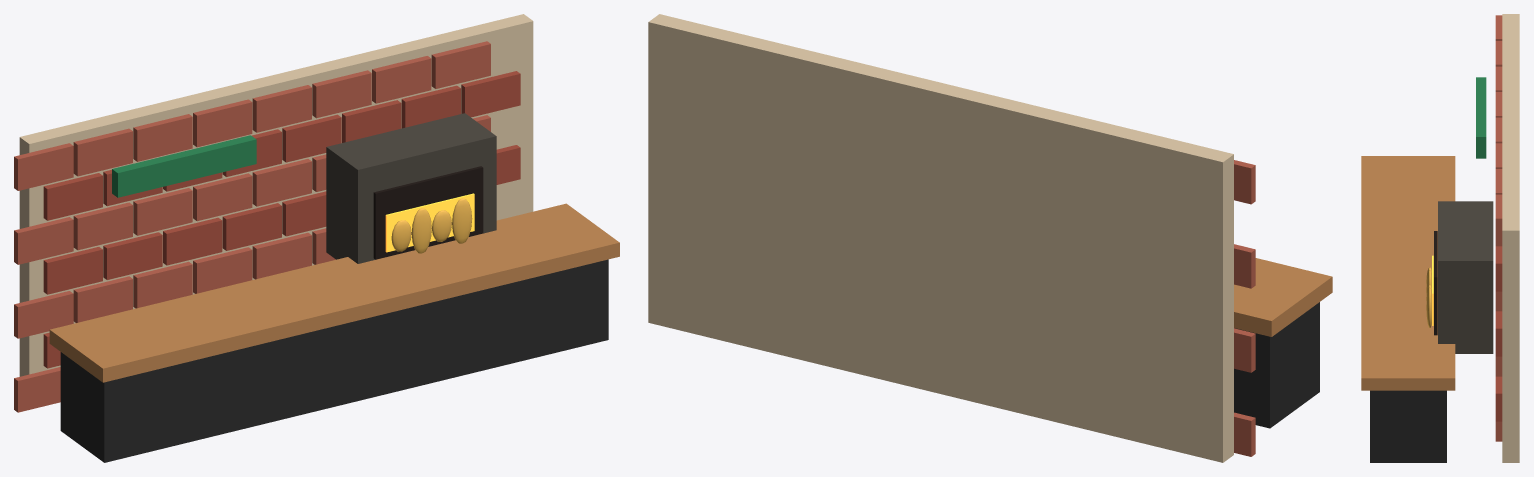
File: pizzeria-backdrop.glb
3 views of the same model, side by side, from view 1: azimuth 30°, elevation 25°; view 2: azimuth 150°, elevation 25°; view 3: azimuth 270°, elevation 25° (orthographic). The views are drawn at different scales.
Parts seen in each view (by area): view 1: pizzeria-backdrop; view 2: pizzeria-backdrop; view 3: pizzeria-backdrop.
Boxes of the visible parts, box(x1,y1,x2,y2) form: pizzeria-backdrop: box(14, 14, 619, 462); pizzeria-backdrop: box(648, 14, 1332, 462); pizzeria-backdrop: box(1361, 14, 1519, 462).
Size of the model in its own units: 6.26 by 3 by 1.85.
